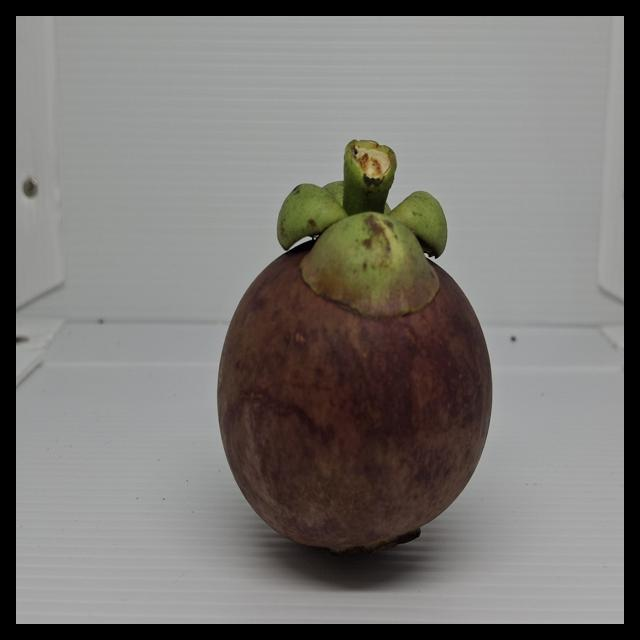mangosteen: (166, 109, 566, 596)
